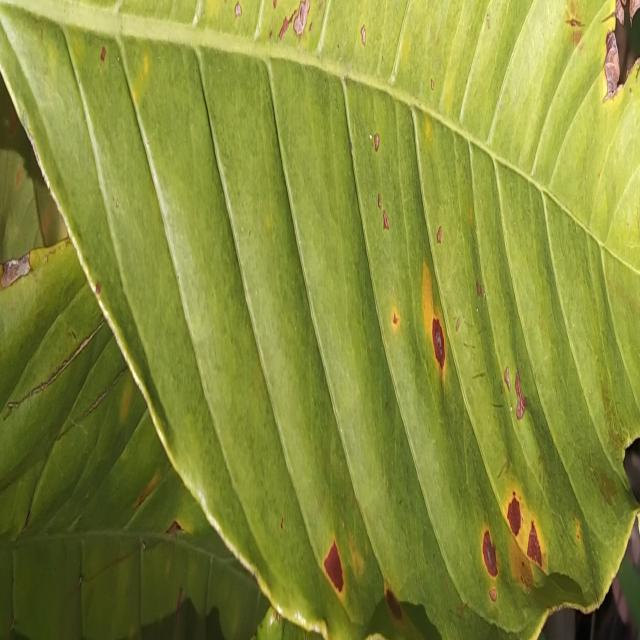Enfermedad-Mancha-de-hierro: (0, 0, 640, 640)
